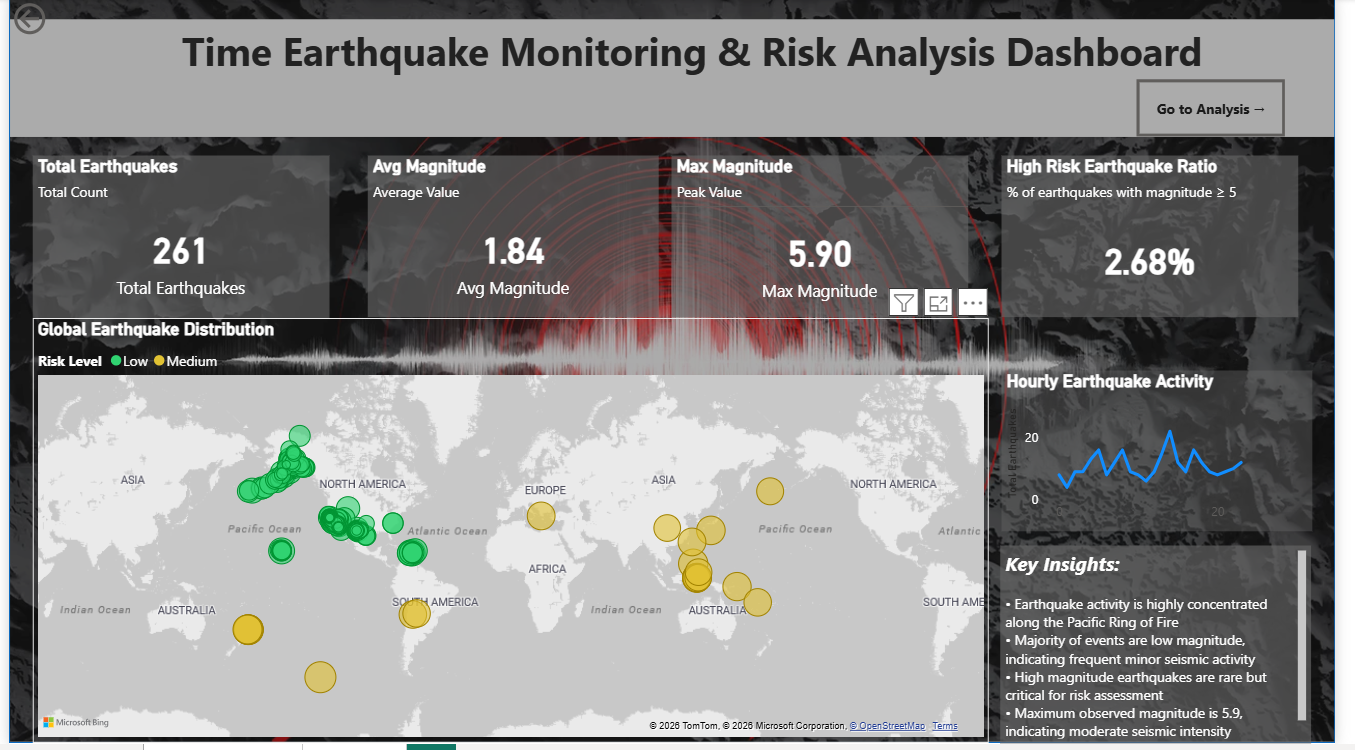

Layout of this report page (visuals, bound fields, positions):
{"tool":"powerbi","page":{"name":"Live Monitoring","canvas":[1280,720],"ordinal":0},"visuals":[{"type":"textbox","box":[0,20.1,1280.5,114],"z":0},{"type":"shape","box":[0,0,1280,719],"z":1000},{"type":"card","title":"Total Earthquakes","fields":{"Values":["all_day.Total Earthquakes"]},"box":[22.3,152,286,156.4],"z":2000},{"type":"card","title":"Avg Magnitude","fields":{"Values":["all_day.Avg Magnitude"]},"box":[345.9,152,280.8,156.2],"z":4000},{"type":"card","title":"Max Magnitude","fields":{"Values":["all_day.Max Magnitude"]},"box":[640,152,286,156],"z":5000},{"type":"map","title":"Global Earthquake Distribution","fields":{"Y":["all_day.Latitude"],"X":["all_day.Longitude"],"Size":["Sum(all_day.Magnitude)"],"Series":["all_day.Risk Level"]},"box":[22.9,308.8,922.9,410.2],"z":6000},{"type":"actionButton","box":[1088.2,78.4,143.6,55.5],"z":7000},{"type":"textbox","box":[957.1,528.6,300,191.4],"z":9000},{"type":"card","title":"High Risk Earthquake Ratio","fields":{"Values":["all_day.High Risk %"]},"box":[958,152,286,156],"z":9001},{"type":"actionButton","box":[0,0,100,40],"z":9002},{"type":"lineChart","title":"Hourly Earthquake Activity","fields":{"Y":["all_day.Total Earthquakes"],"Category":["all_day.Hour"]},"box":[957.5,360,300,155],"z":9003}]}

Visuals, with their boxes in screenshot pixels (x1, y1, x2, y2):
textbox: [7, 17, 1325, 135]
shape: [7, 0, 1325, 737]
"Total Earthquakes" card: [30, 153, 324, 314]
"Avg Magnitude" card: [363, 153, 652, 314]
"Max Magnitude" card: [666, 153, 960, 314]
"Global Earthquake Distribution" map: [31, 314, 981, 737]
actionButton: [1127, 77, 1275, 134]
textbox: [992, 541, 1301, 738]
"High Risk Earthquake Ratio" card: [993, 153, 1288, 314]
actionButton: [7, 0, 110, 38]
"Hourly Earthquake Activity" lineChart: [993, 367, 1302, 527]
